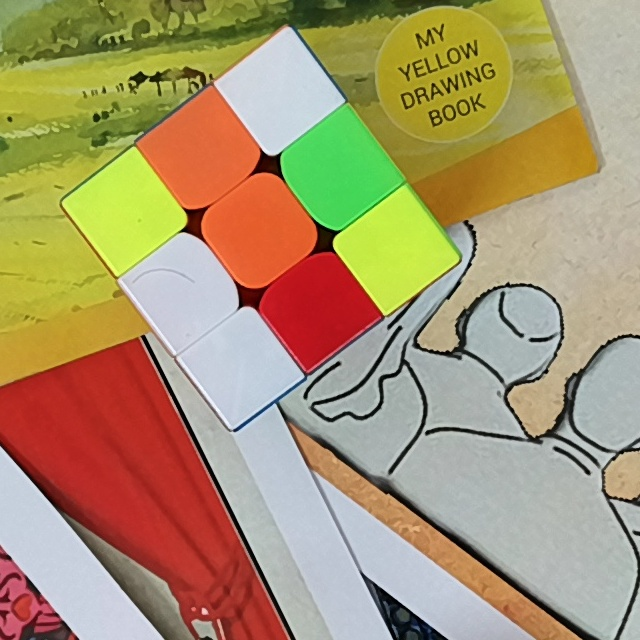tile: (150, 257, 216, 325), (226, 195, 293, 261), (305, 137, 371, 203), (284, 272, 351, 337), (170, 119, 235, 185), (247, 61, 312, 124), (95, 178, 156, 243), (364, 219, 428, 280), (212, 333, 273, 397)
